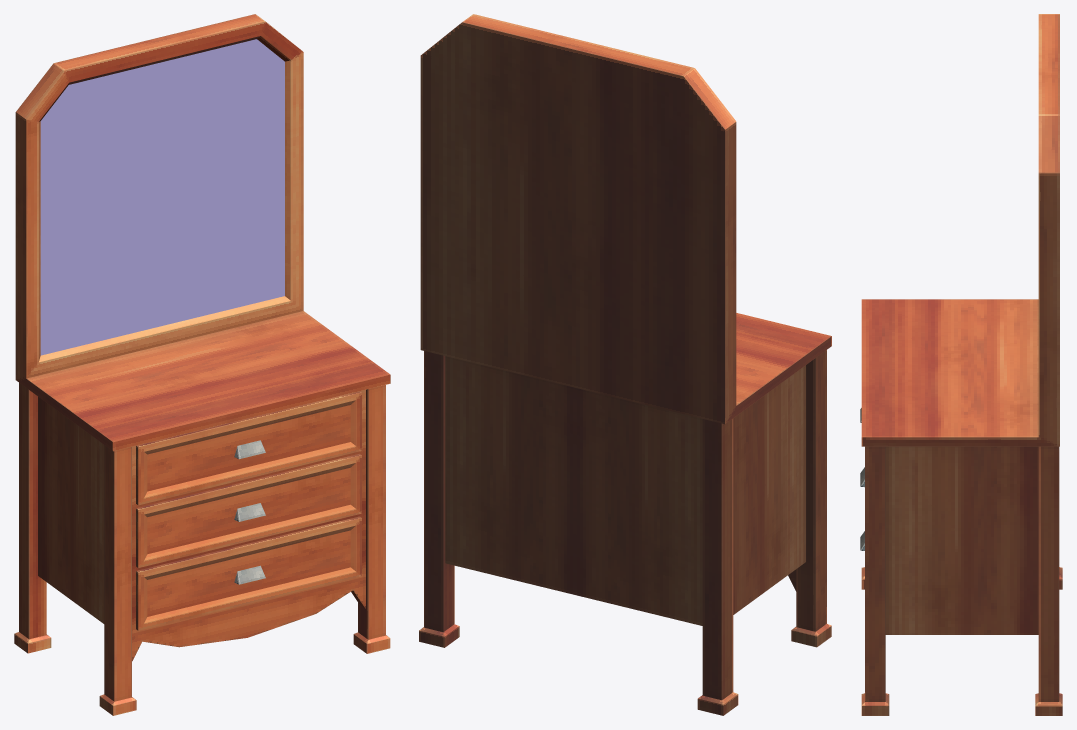
The model's file is mirror_table.glb.
3 views of the same model, side by side, from view 1: azimuth 30°, elevation 25°; view 2: azimuth 150°, elevation 25°; view 3: azimuth 270°, elevation 25° (orthographic). The views are drawn at different scales.
Parts seen in each view (by area): view 1: Dresser_Assembled_Dresser_0, Dresser_Assembled_Dresser_Mirror_0; view 2: Dresser_Assembled_Dresser_0; view 3: Dresser_Assembled_Dresser_0.
Part boxes in pixels (x1,y1,x2,y2): Dresser_Assembled_Dresser_0: (14,14,390,715); Dresser_Assembled_Dresser_Mirror_0: (40,39,284,355); Dresser_Assembled_Dresser_0: (419,14,831,715); Dresser_Assembled_Dresser_0: (860,14,1062,715).
Bounding box in the file's own units: 89.87 × 177 × 55.82.
Materials: 2 (1 with a texture image).
